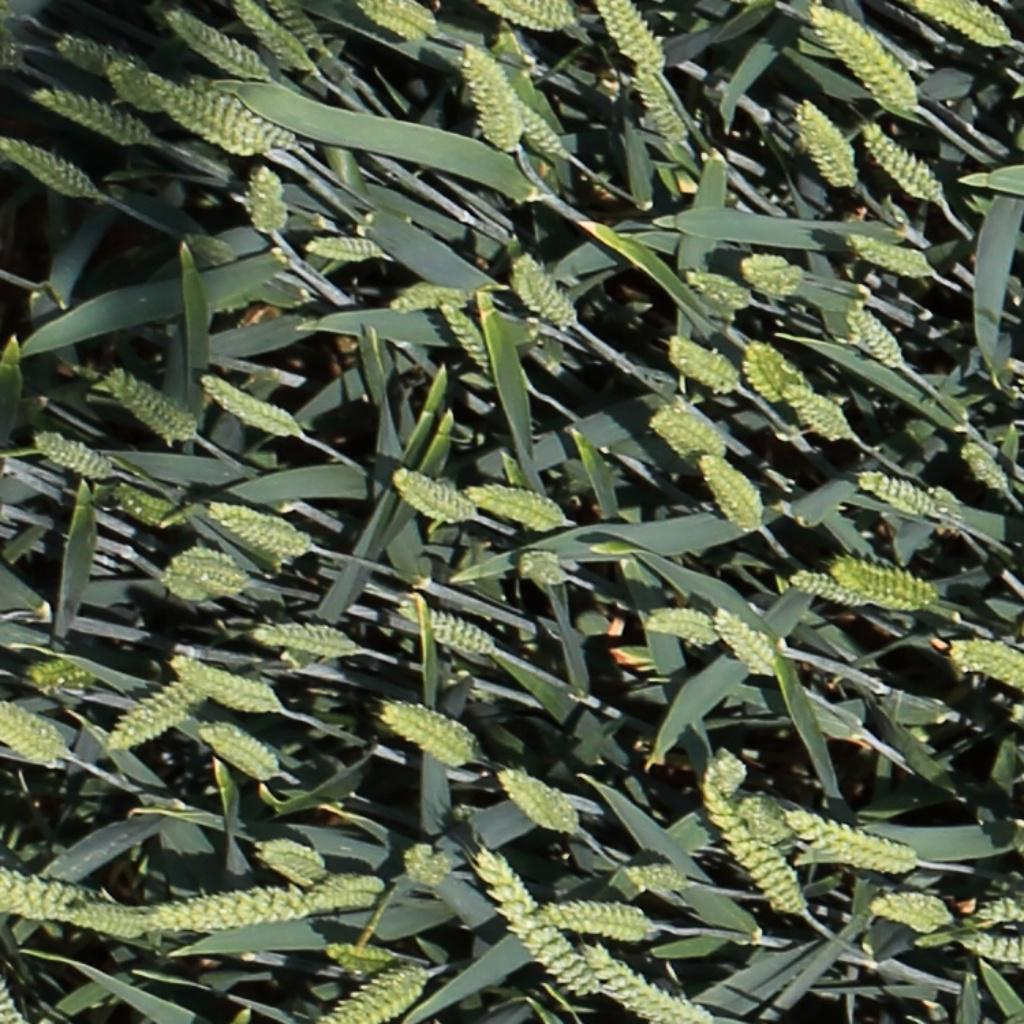0-0: (474, 848, 595, 1000), (696, 782, 808, 909), (806, 0, 924, 116), (142, 69, 268, 159), (582, 942, 719, 1024), (785, 805, 924, 875), (24, 82, 157, 152), (171, 83, 306, 151), (140, 880, 315, 930), (376, 691, 479, 770), (103, 365, 203, 444), (319, 962, 441, 1023), (101, 682, 202, 754), (230, 0, 318, 81), (0, 863, 120, 922), (858, 118, 942, 202), (163, 8, 262, 79), (169, 658, 286, 717), (457, 45, 518, 152), (528, 893, 661, 942), (827, 552, 939, 609), (195, 374, 297, 436), (791, 94, 857, 185), (694, 450, 763, 532), (509, 248, 577, 331), (2, 135, 94, 196), (495, 771, 583, 834), (194, 721, 282, 784), (742, 337, 817, 408), (397, 599, 491, 655), (709, 606, 779, 681), (390, 467, 478, 526), (595, 1, 664, 76), (649, 404, 733, 465), (629, 60, 688, 146), (432, 294, 494, 375), (462, 483, 568, 530), (856, 468, 945, 523), (0, 698, 73, 765), (780, 383, 858, 445), (842, 299, 906, 374), (161, 544, 257, 592), (48, 33, 140, 82), (249, 621, 367, 659), (664, 337, 742, 394), (106, 480, 194, 530), (356, 1, 445, 49), (324, 934, 409, 984), (246, 834, 328, 885), (947, 634, 1024, 688), (918, 0, 1010, 45), (200, 494, 298, 536), (640, 600, 721, 650), (730, 250, 811, 299), (103, 59, 171, 116), (866, 890, 952, 934), (734, 790, 797, 848), (31, 432, 111, 477), (301, 873, 385, 914), (219, 516, 314, 552), (846, 233, 929, 274), (264, 0, 327, 53), (68, 903, 155, 941), (479, 0, 577, 33), (789, 569, 869, 609), (957, 438, 1010, 497), (520, 92, 566, 157), (22, 653, 93, 695), (401, 834, 451, 893), (384, 280, 476, 312), (619, 859, 694, 897), (248, 163, 285, 237), (161, 568, 231, 604), (697, 746, 748, 794), (960, 892, 1023, 929), (684, 270, 749, 304), (520, 546, 571, 589), (303, 237, 385, 263), (960, 934, 1024, 967), (0, 972, 31, 1024), (0, 26, 29, 77), (1009, 704, 1024, 730), (0, 0, 18, 21)
